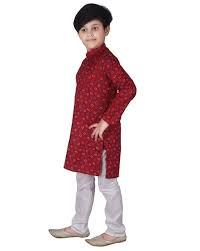Human: (62, 6, 130, 241)
